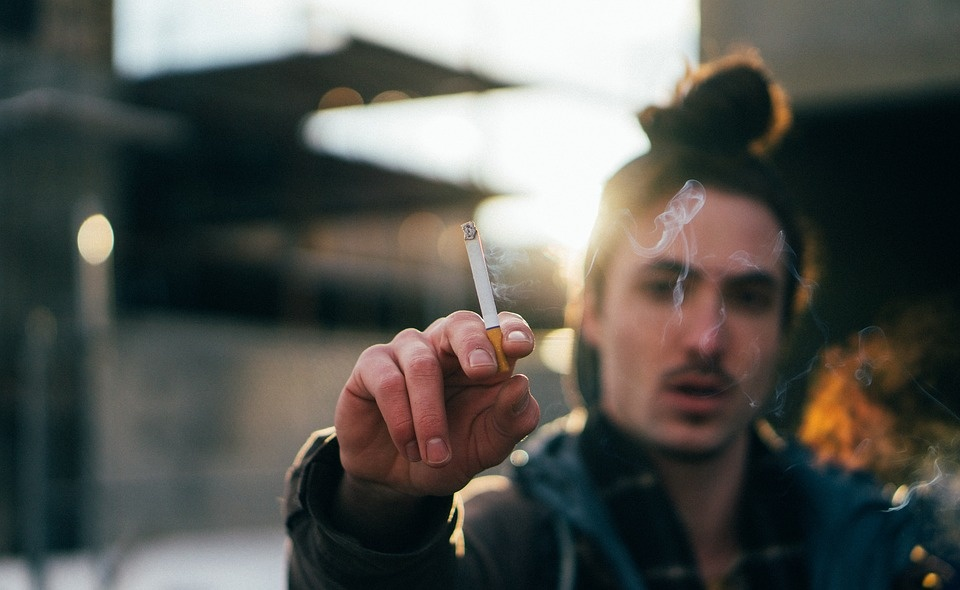sigaretta: (462, 227, 518, 373)
